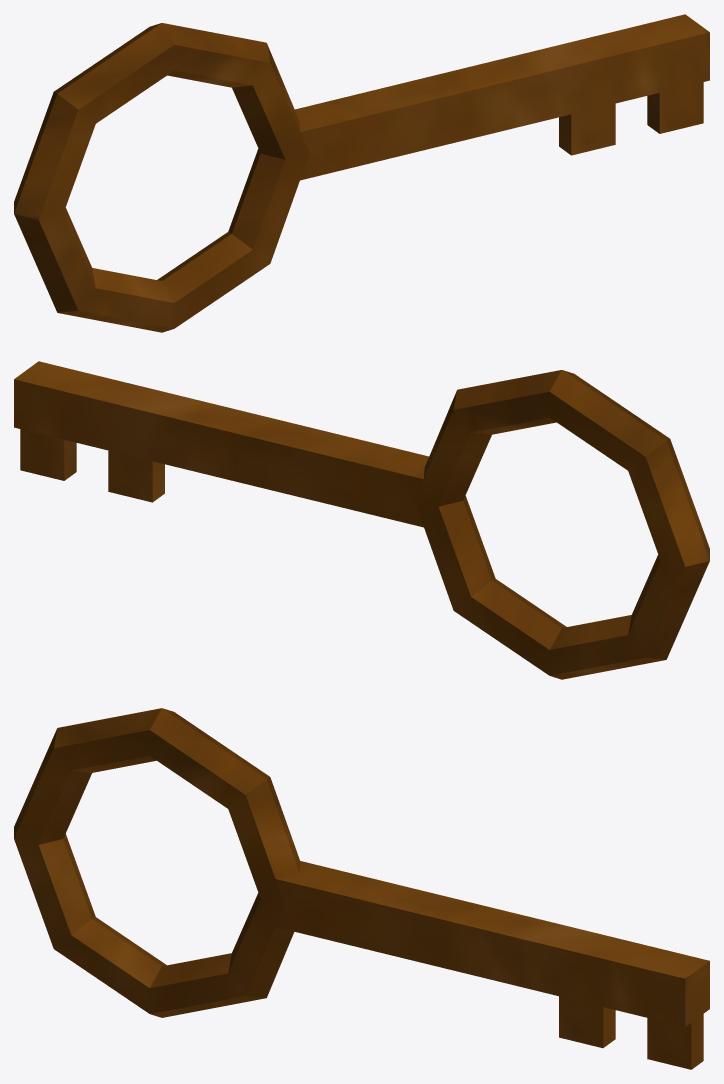
File: Key.fbx
3 views of the same model, one above another, from view 1: azimuth 30°, elevation 25°; view 2: azimuth 150°, elevation 25°; view 3: azimuth 330°, elevation 25° (orthographic).
Parts seen in each view (by area): view 1: Key; view 2: Key; view 3: Key.
Part boxes in pixels (x1,y1,x2,y2): Key: [14, 14, 709, 332]; Key: [14, 361, 709, 679]; Key: [14, 708, 709, 1069].
Bounding box in the file's own units: 183 × 79.19 × 11.43.
